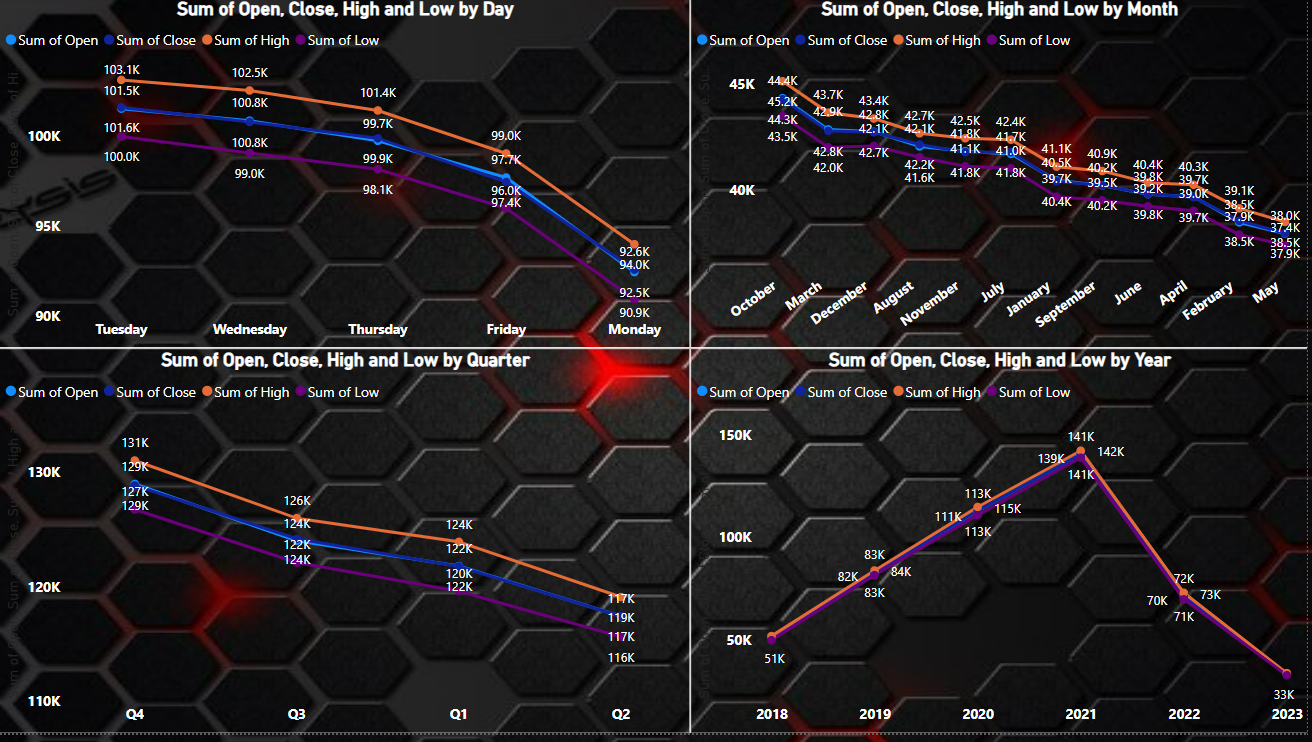

The page's visual inventory and layout, read from the dashboard file:
{"tool":"powerbi","page":{"name":"Page 2","canvas":[1280,720],"ordinal":1},"visuals":[{"type":"lineChart","title":"Sum of Open, Close, High and Low by Day","fields":{"Category":["Sheet1.Day"],"Y":["Sum(Sheet1.Open)","Sum(Sheet1.Close)","Sum(Sheet1.High)","Sum(Sheet1.Low)"]},"box":[0,0,676,343.5],"z":0},{"type":"lineChart","title":"Sum of Open, Close, High and Low by Month","fields":{"Y":["Sum(Sheet1.Open)","Sum(Sheet1.Close)","Sum(Sheet1.High)","Sum(Sheet1.Low)"],"Category":["Sheet1.Month"]},"box":[676,0,603.9,343.5],"z":1},{"type":"lineChart","title":"Sum of Open, Close, High and Low by Quarter","fields":{"Y":["Sum(Sheet1.Open)","Sum(Sheet1.Close)","Sum(Sheet1.High)","Sum(Sheet1.Low)"],"Category":["Sheet1.Quarter"]},"box":[0,343.5,676,376.5],"z":2},{"type":"lineChart","title":"Sum of Open, Close, High and Low by Year","fields":{"Y":["Sum(Sheet1.Open)","Sum(Sheet1.Close)","Sum(Sheet1.High)","Sum(Sheet1.Low)"],"Category":["Sheet1.Year"]},"box":[676,343.5,603.9,376.5],"z":3}]}

Visuals, with their boxes in screenshot pixels (x1, y1, x2, y2), scaled from the page's 1280x720 canvas onto the 1312x742 screenshot:
"Sum of Open, Close, High and Low by Day" lineChart: locate(0, 0, 693, 354)
"Sum of Open, Close, High and Low by Month" lineChart: locate(693, 0, 1311, 354)
"Sum of Open, Close, High and Low by Quarter" lineChart: locate(0, 354, 693, 741)
"Sum of Open, Close, High and Low by Year" lineChart: locate(693, 354, 1311, 741)
